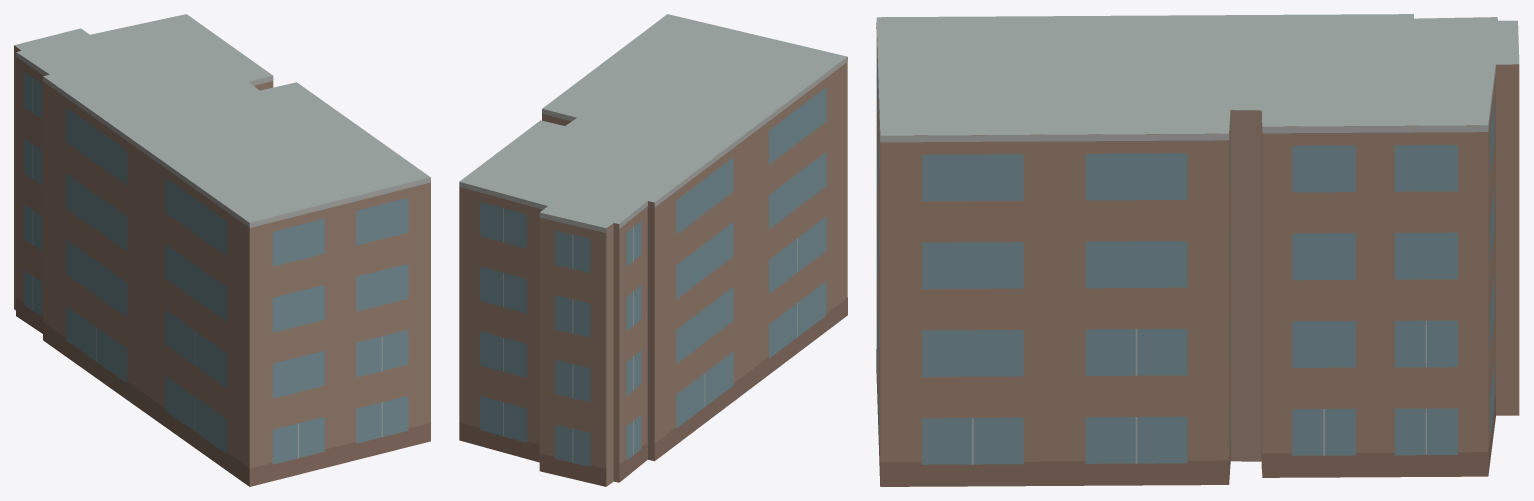
Rendered from survey-upis-32633615.glb.
3 renders of one model, left to right at view 1: azimuth 30°, elevation 25°; view 2: azimuth 150°, elevation 25°; view 3: azimuth 270°, elevation 25°, orthographic. The views are drawn at different scales.
Visible parts, largest first — view 1: survey-upis-32633615.tmp; view 2: survey-upis-32633615.tmp; view 3: survey-upis-32633615.tmp.
Boxes of the visible parts, x1,y1,x2,y2 form: survey-upis-32633615.tmp: [14, 14, 430, 486]; survey-upis-32633615.tmp: [459, 14, 847, 486]; survey-upis-32633615.tmp: [876, 14, 1519, 486].
Bounding box in the file's own units: 9.44 × 12.7 × 21.08.
